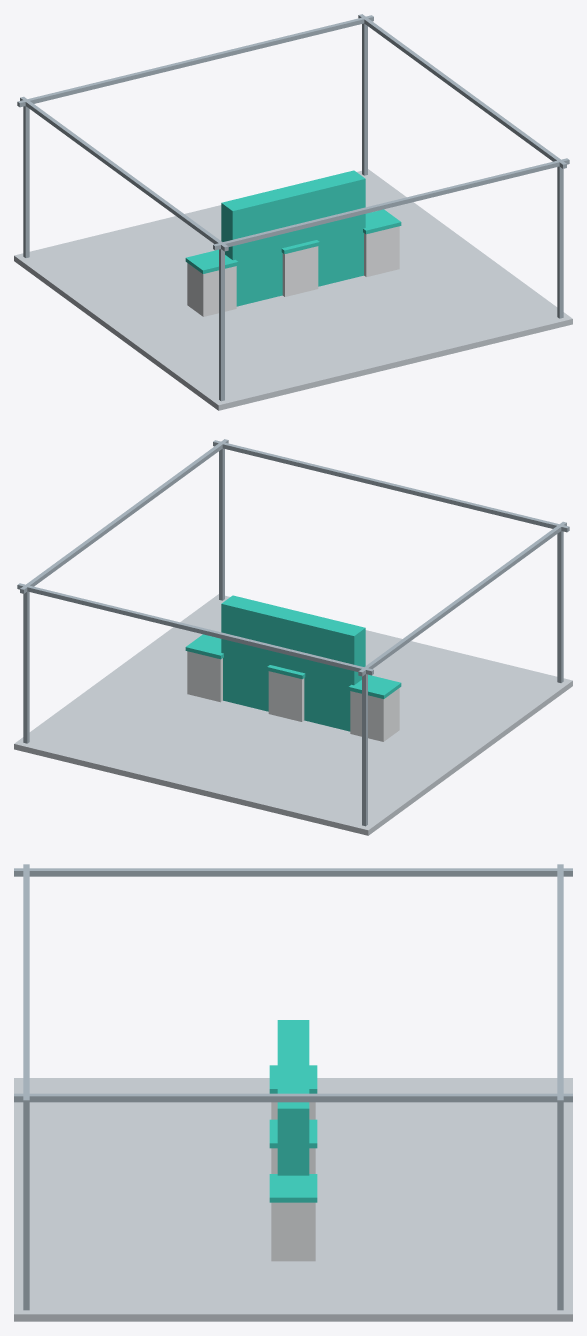
3 views of the same model, one above another, from view 1: azimuth 30°, elevation 25°; view 2: azimuth 150°, elevation 25°; view 3: azimuth 270°, elevation 25° (orthographic). The views are drawn at different scales.
Parts seen in each view (by area): view 1: Exhibition Booth Concept; view 2: Exhibition Booth Concept; view 3: Exhibition Booth Concept.
Part boxes in pixels (x1,y1,x2,y2): Exhibition Booth Concept: (14, 14, 572, 410); Exhibition Booth Concept: (14, 439, 572, 835); Exhibition Booth Concept: (14, 864, 572, 1321).
Size of the model in its own units: 8 by 3.49 by 8.
